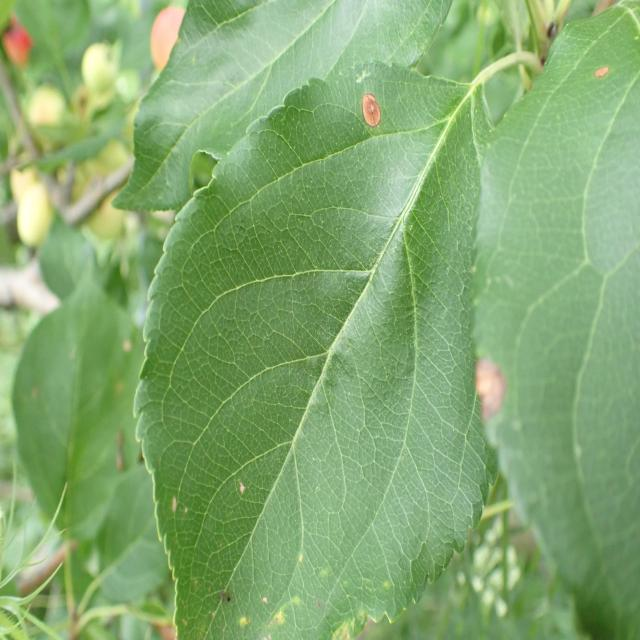Black Rot: (462, 331, 526, 454), (344, 71, 388, 159), (578, 56, 620, 91)
